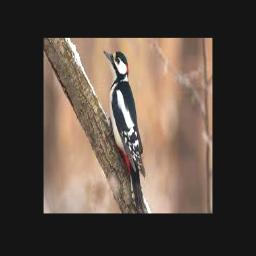Woodpecker: (103, 49, 145, 213)
